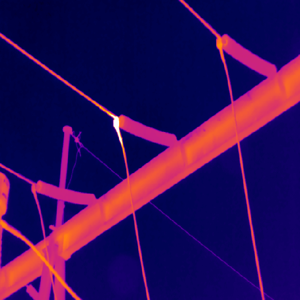insulator: (219, 33, 276, 78), (116, 111, 176, 149), (35, 179, 96, 207)
